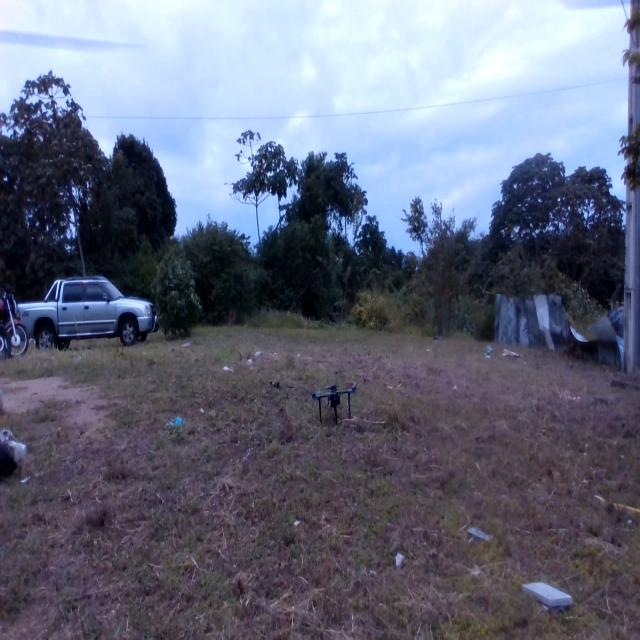-uav-: (311, 376, 359, 425)
